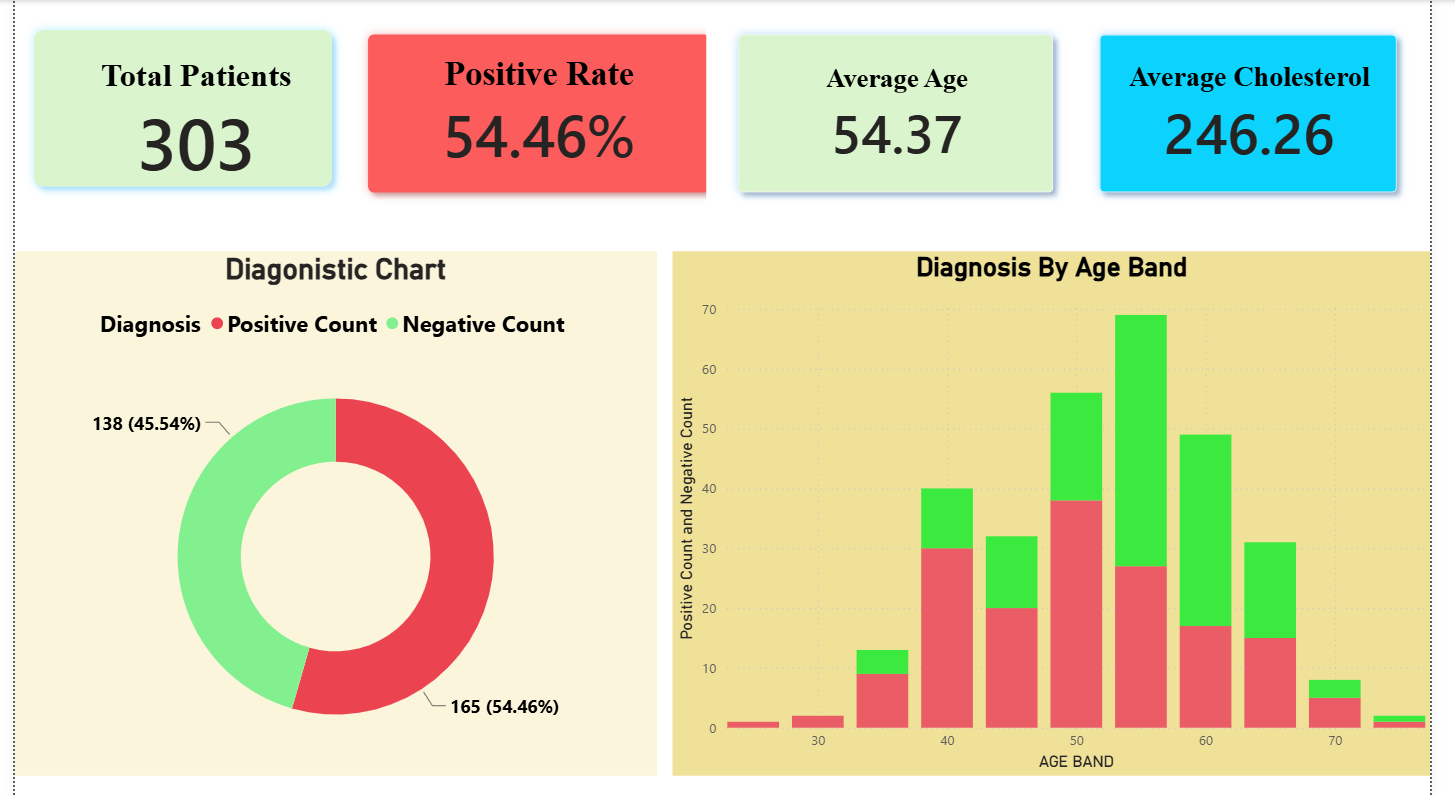

This screenshot's page, from the dashboard's own definition file:
{"tool":"powerbi","page":{"name":"Page 1","canvas":[1280,720],"ordinal":0},"visuals":[{"type":"cardVisual","fields":{"Data":["Heart Attack Data Set.total patients"]},"box":[0,10.5,304.7,176.7],"z":0},{"type":"cardVisual","fields":{"Data":["Heart Attack Data Set.Positive Rate"]},"box":[290.9,2.7,367.8,201.7],"z":1000},{"type":"cardVisual","fields":{"Data":["Heart Attack Data Set.Average Age"]},"box":[625.7,2.7,343.1,201.7],"z":2000},{"type":"cardVisual","fields":{"Data":["Heart Attack Data Set.Average Cholesterol"]},"box":[952.3,2.7,328,201.7],"z":3000},{"type":"donutChart","title":"Diagonistic Chart","fields":{"Y":["Heart Attack Data Set.Positive Count","Heart Attack Data Set.Negative Count"]},"box":[0,227.8,580.4,474.8],"z":4000},{"type":"columnChart","title":"Diagnosis By Age Band","fields":{"Category":["Heart Attack Data Set.age (bins)"],"Y":["Heart Attack Data Set.Positive Count","Heart Attack Data Set.Negative Count"]},"box":[594.2,227.8,686.1,474.8],"z":5000}]}

Visuals, with their boxes in screenshot pixels (x1, y1, x2, y2), scaled from the page's 1280x720 canvas onto the 1455x796 screenshot:
cardVisual - Heart Attack Data Set.total patients: bbox(0, 12, 346, 207)
cardVisual - Heart Attack Data Set.Positive Rate: bbox(331, 3, 749, 226)
cardVisual - Heart Attack Data Set.Average Age: bbox(711, 3, 1101, 226)
cardVisual - Heart Attack Data Set.Average Cholesterol: bbox(1082, 3, 1454, 226)
"Diagonistic Chart" donutChart: bbox(0, 252, 660, 777)
"Diagnosis By Age Band" columnChart: bbox(675, 252, 1454, 777)
